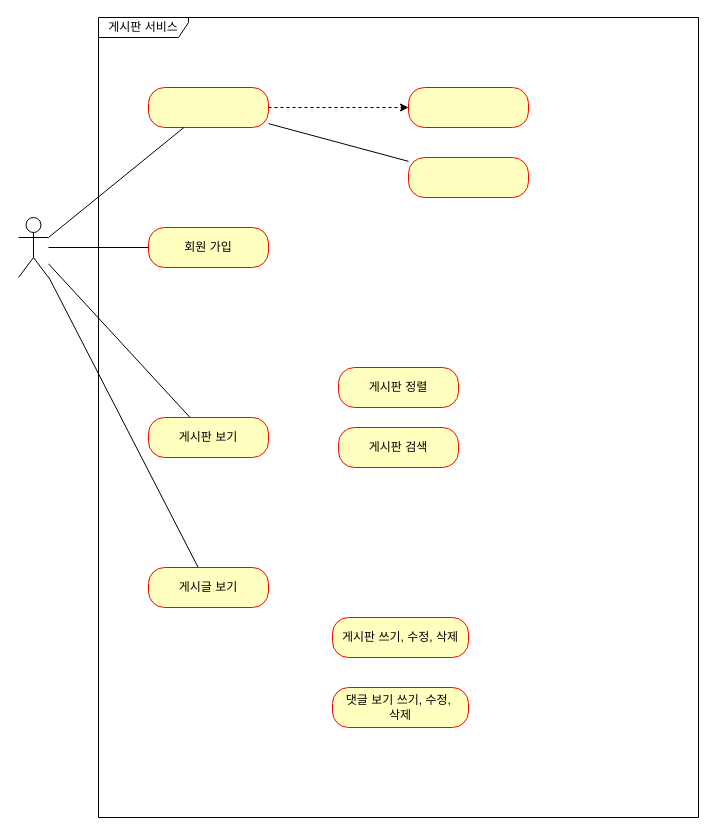
Image size: 716x835. Some labels were removed from this diagram. The shapes that lost their labels are listed below. From the top down, each one's box as (x1, y1, x2, y2) in pixels, then its label:
(148, 86, 268, 128): 회원 로그인
(408, 86, 528, 128): 인증
(408, 156, 528, 198): 로그인 실패
(18, 216, 48, 278): 이용자
